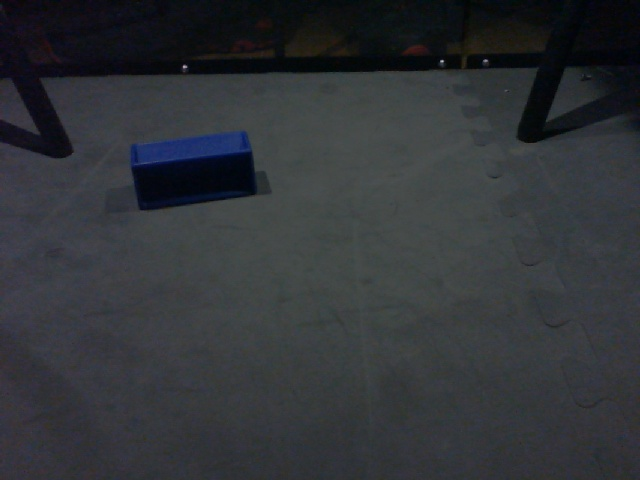BlueSample: (126, 128, 261, 211)
